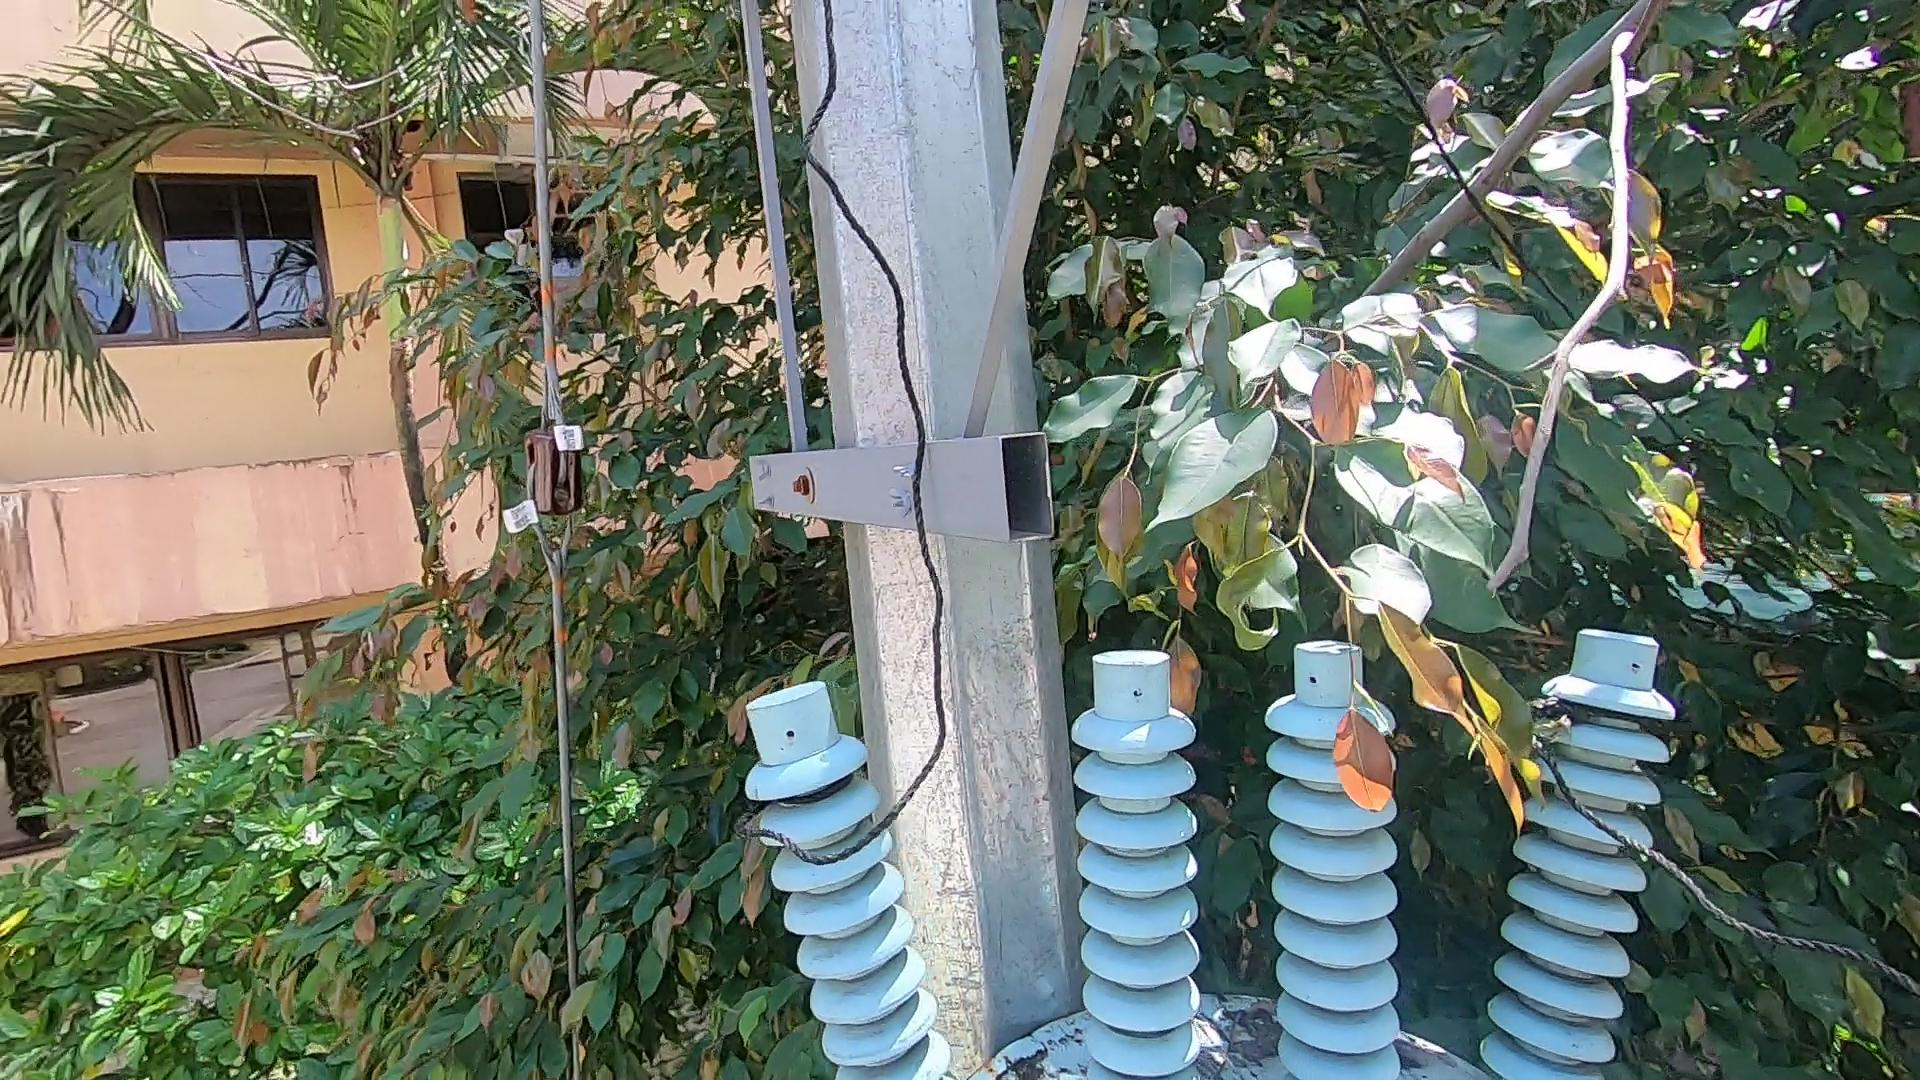tree branch: (1311, 1, 1718, 636)
